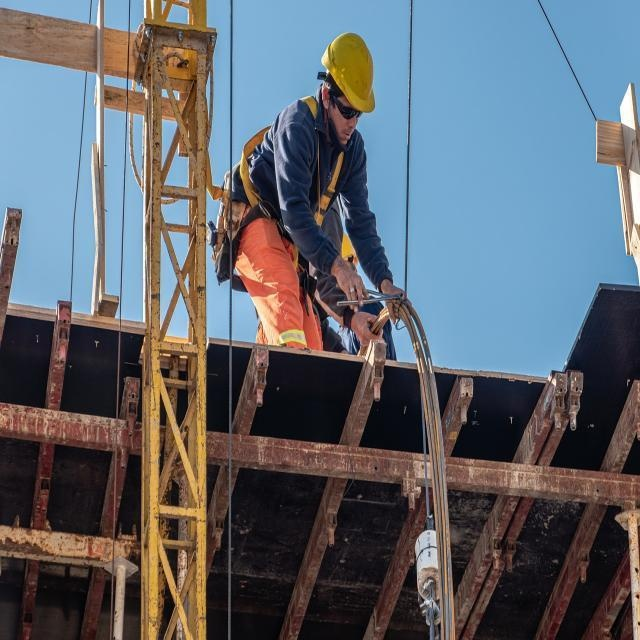Arnes_seguridad: (205, 102, 363, 262)
